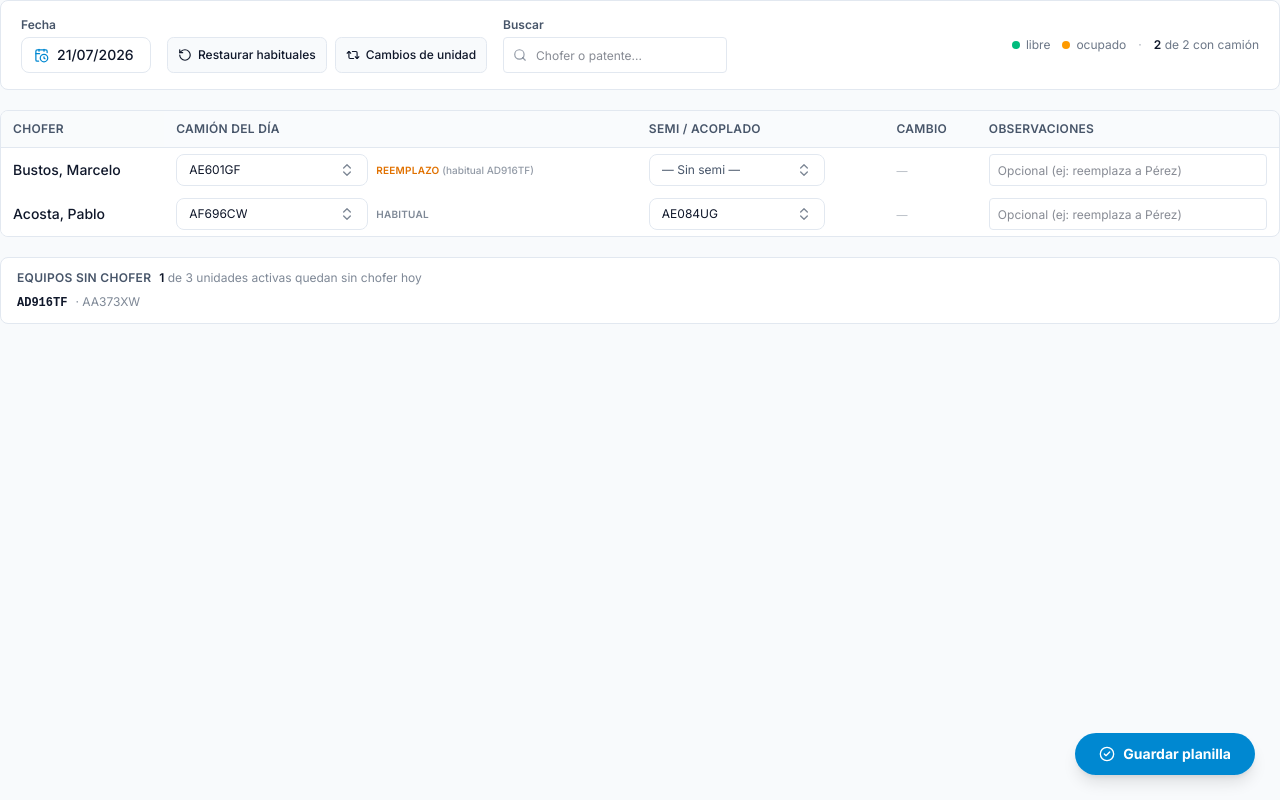
PlanillaDiariaClient · buscador › filtra por patente del camión asignado
In the search field labelled "Buscar": coordinates (615, 55) [503,37,727,73], type "AE601GF"
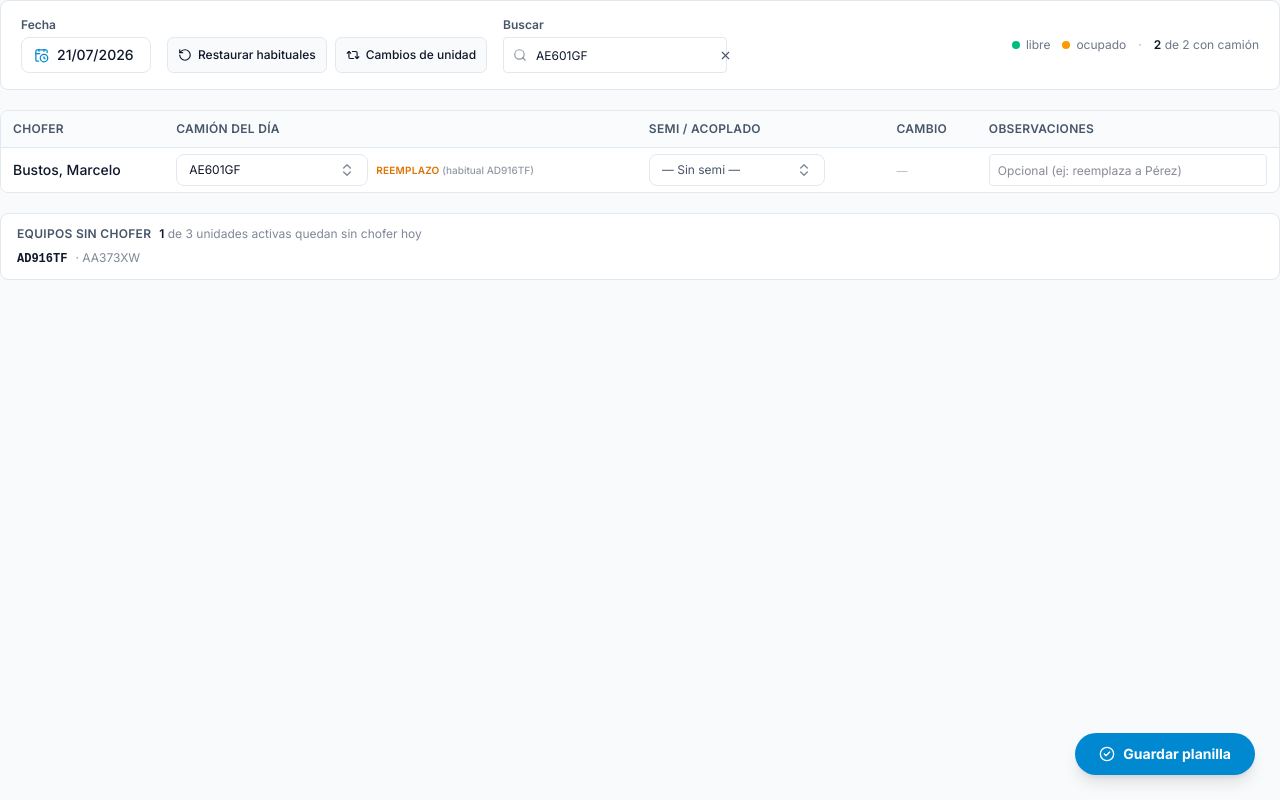
Expected: the text "Bustos, Marcelo" is shown, [13,161,121,178]
Expected: the text "Acosta," is gone
